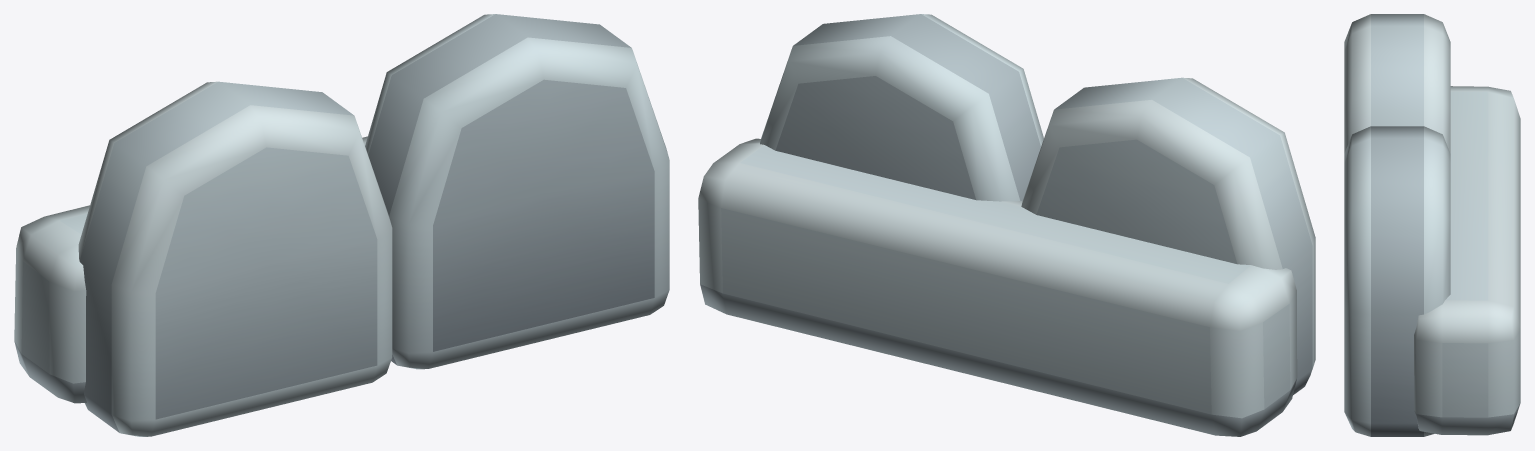
File: fence_short_LOD_setup.fbx
3 renders of one model, left to right at view 1: azimuth 30°, elevation 25°; view 2: azimuth 150°, elevation 25°; view 3: azimuth 270°, elevation 25°, orthographic. The views are drawn at different scales.
Parts seen in each view (by area): view 1: fence_short_LOD0; view 2: fence_short_LOD0; view 3: fence_short_LOD0.
Part boxes in pixels (x1=…): fence_short_LOD0: x1=14, y1=14, x2=669, y2=436; fence_short_LOD0: x1=698, y1=14, x2=1315, y2=436; fence_short_LOD0: x1=1344, y1=14, x2=1520, y2=436.
Size of what is drawn, in the model's own units: 107 by 52.5 by 33.19.
